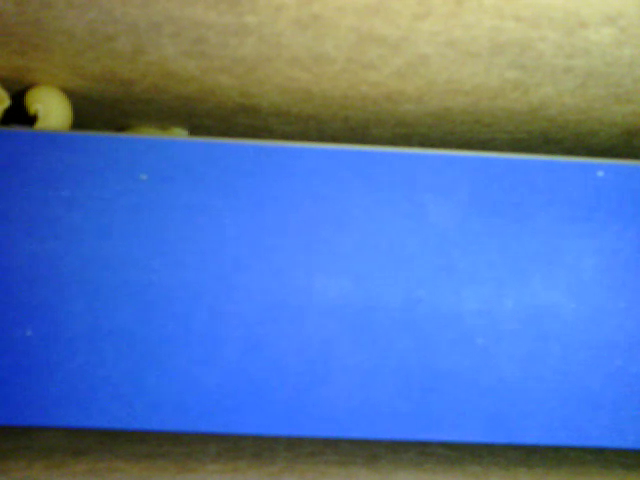shell: (21, 83, 74, 131)
